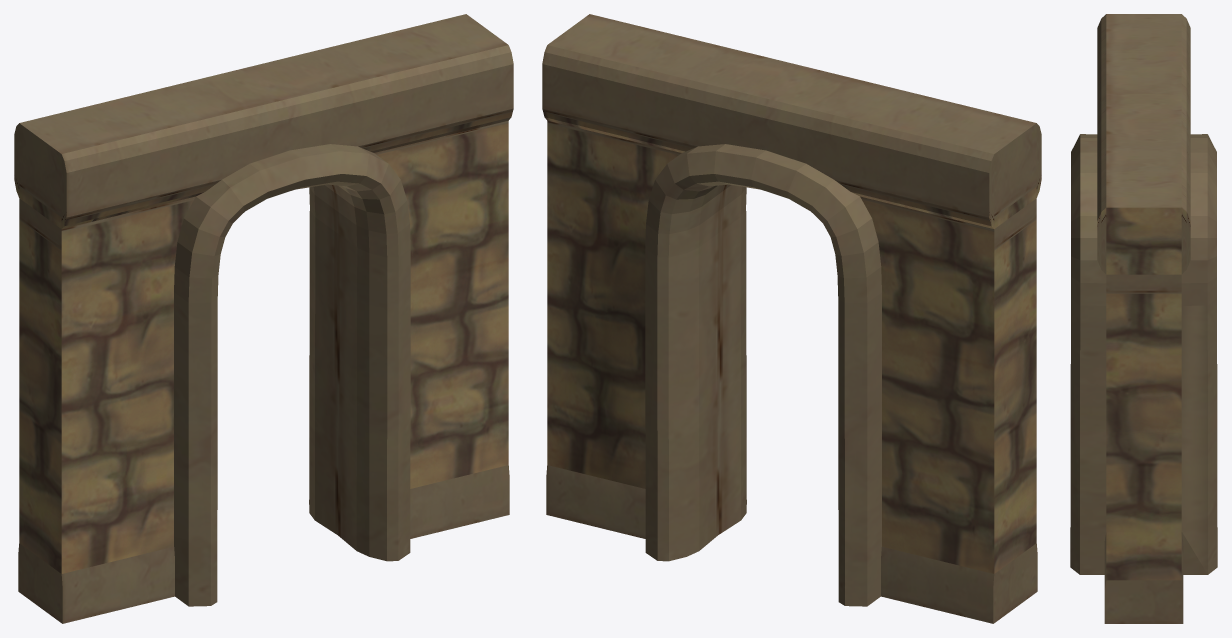
File: WalllOpening.FBX
3 views of the same model, side by side, from view 1: azimuth 30°, elevation 25°; view 2: azimuth 150°, elevation 25°; view 3: azimuth 270°, elevation 25° (orthographic). The views are drawn at different scales.
Visible parts, largest first — view 1: Straight wall; view 2: Straight wall; view 3: Straight wall.
Boxes of the visible parts, x1,y1,x2,y2 form: Straight wall: [14, 14, 513, 623]; Straight wall: [542, 14, 1041, 623]; Straight wall: [1070, 14, 1217, 623].
Bounding box in the file's own units: 199 × 200 × 64.07.
Materials: 1 (1 with a texture image).
